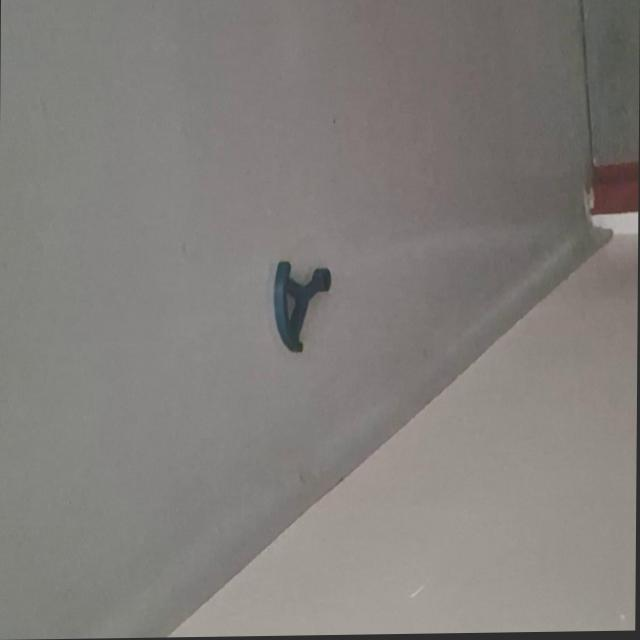haptic: (271, 259, 332, 355)
